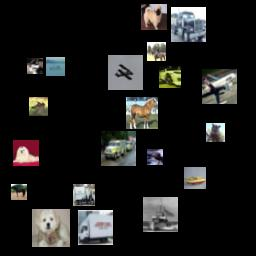airplane: (202, 69, 237, 104), (108, 55, 143, 90)
automobile: (159, 66, 181, 88)
cat: (206, 123, 225, 142)
deer: (29, 97, 48, 116), (147, 149, 163, 165)
dog: (32, 209, 70, 247), (13, 140, 39, 166), (141, 4, 167, 30), (27, 58, 43, 74)
ship: (143, 197, 178, 232), (184, 167, 206, 189), (46, 57, 65, 76)
truck: (171, 7, 206, 42), (101, 131, 136, 166), (78, 210, 113, 245), (73, 184, 95, 206)
